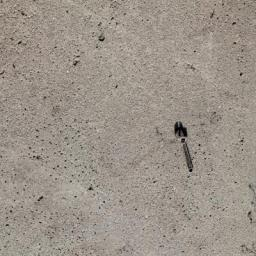FOD: (172, 122, 203, 175)
